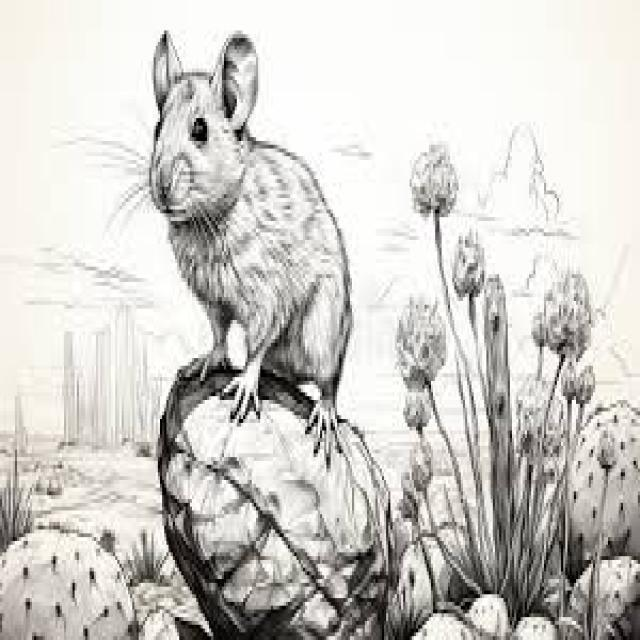Rat: (124, 13, 366, 436)
